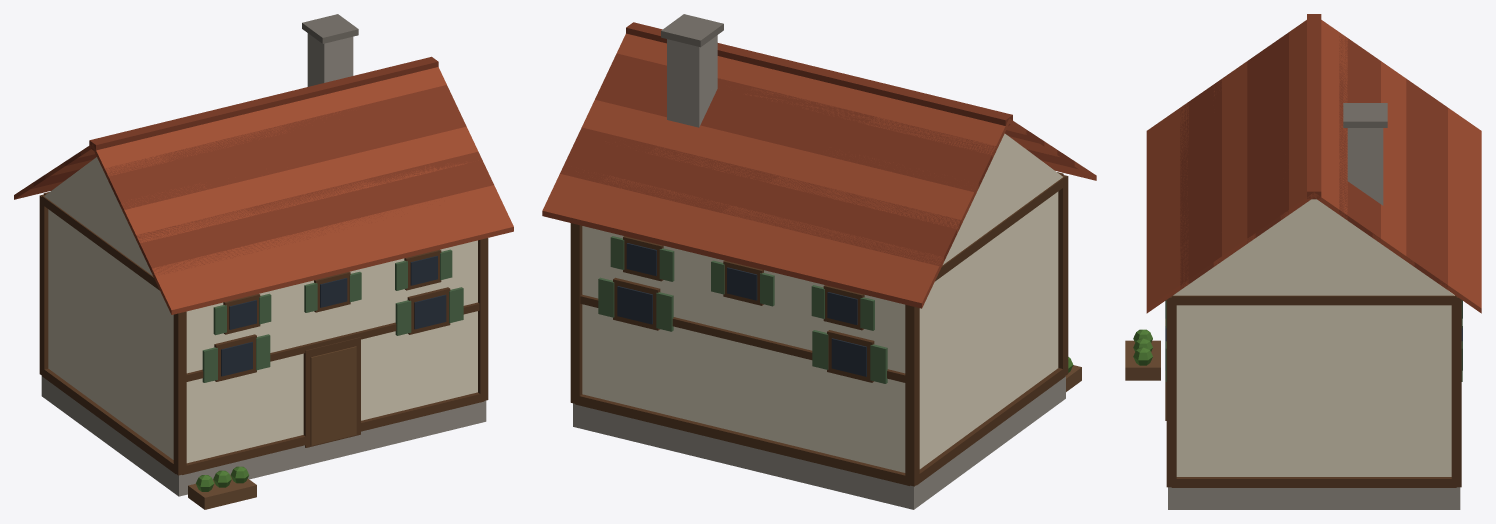
Rendered from house_l2.glb.
The picture shows the model from 3 angles, left to right: view 1: azimuth 30°, elevation 25°; view 2: azimuth 150°, elevation 25°; view 3: azimuth 270°, elevation 25°; orthographic projection. The views are drawn at different scales.
Parts seen in each view (by area): view 1: house_l2; view 2: house_l2; view 3: house_l2.
Part boxes in pixels (x1,y1,x2,y2): house_l2: (14, 14, 513, 509); house_l2: (542, 14, 1096, 509); house_l2: (1125, 14, 1481, 509).
Size of the model in its own units: 5.9 by 5.65 by 5.
